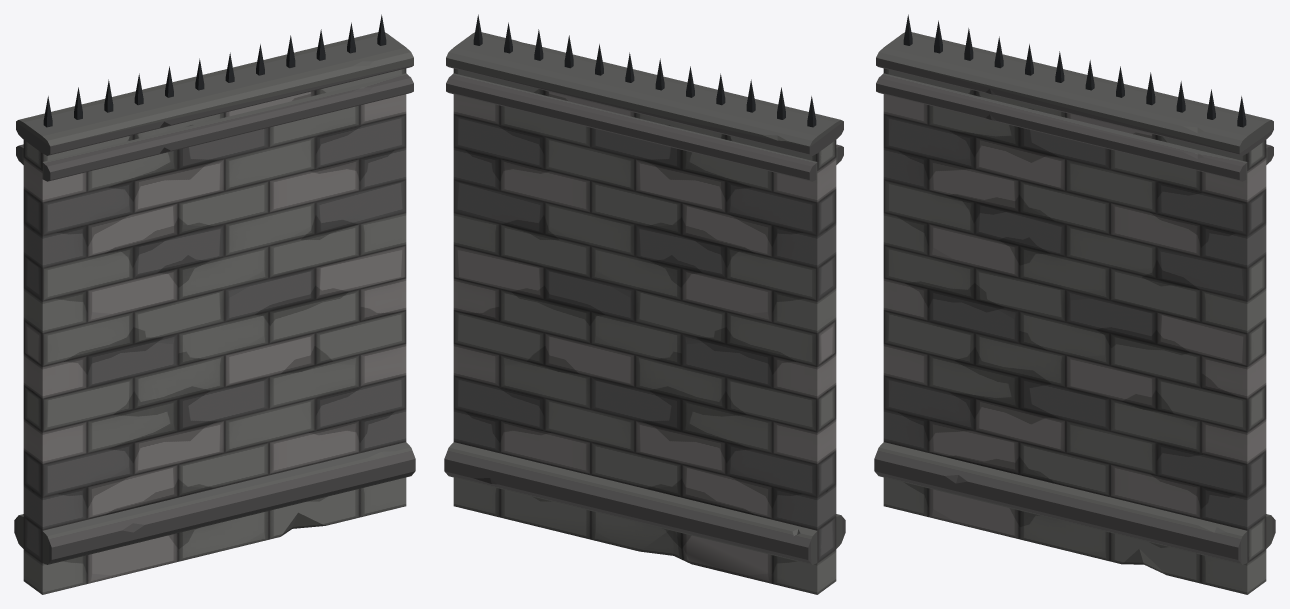
The model's file is SM_Bld_Fence_Brick_02.fbx.
3 views of the same model, side by side, from view 1: azimuth 30°, elevation 25°; view 2: azimuth 150°, elevation 25°; view 3: azimuth 330°, elevation 25° (orthographic).
Visible parts, largest first — view 1: SM_Bld_Fence_Brick_02; view 2: SM_Bld_Fence_Brick_02; view 3: SM_Bld_Fence_Brick_02.
Boxes of the visible parts, bbox=[...] form: SM_Bld_Fence_Brick_02: bbox=[14, 14, 415, 594]; SM_Bld_Fence_Brick_02: bbox=[444, 14, 845, 594]; SM_Bld_Fence_Brick_02: bbox=[874, 14, 1275, 594].
Bounding box in the file's own units: 250 × 322 × 44.59.
